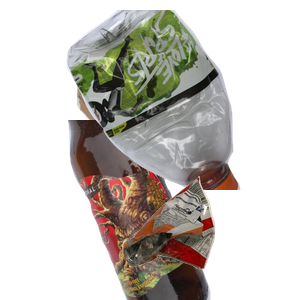cardboard: (74, 42, 225, 170)
glass: (65, 120, 300, 300)
plastic: (64, 10, 300, 190)
trash: (120, 174, 300, 300)
